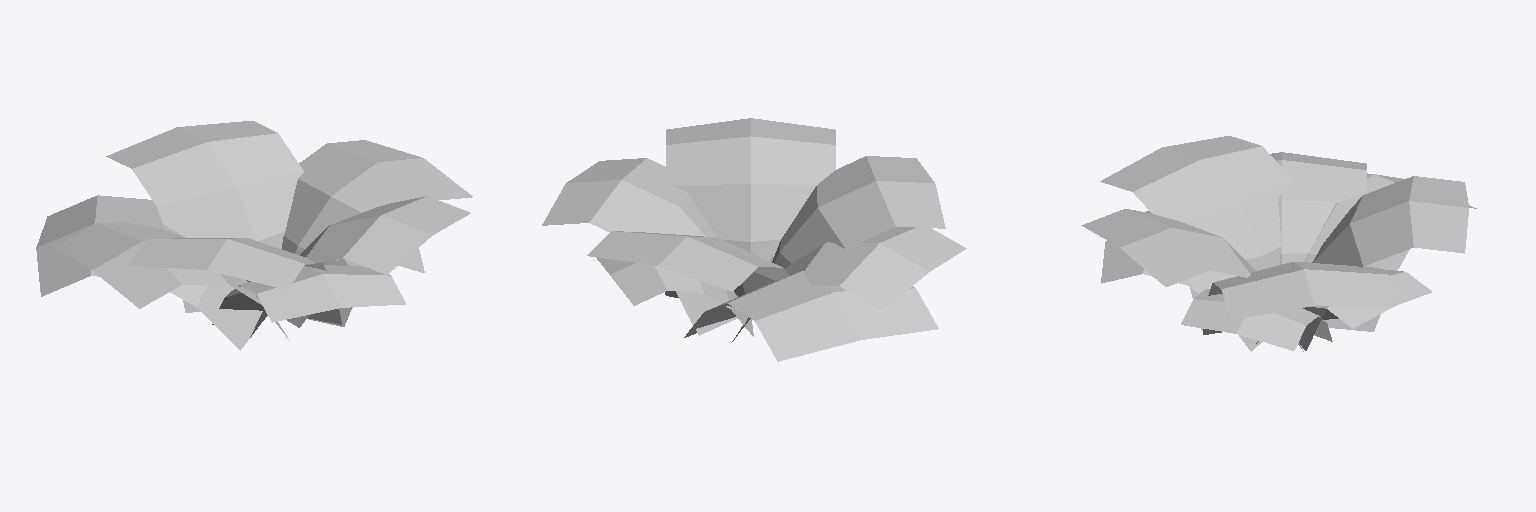
The model's file is fern.obj.
The picture shows the model from 3 angles: view 1: azimuth 30°, elevation 25°; view 2: azimuth 150°, elevation 25°; view 3: azimuth 270°, elevation 25°; orthographic projection.
Parts seen in each view (by area): view 1: Plane.004; view 2: Plane.004; view 3: Plane.004.
Boxes of the visible parts, <box> form: Plane.004: <box>36,121,472,350</box>; Plane.004: <box>542,118,966,361</box>; Plane.004: <box>1081,136,1476,351</box>.
Size of the model in its own units: 7.1 by 2.21 by 6.33.